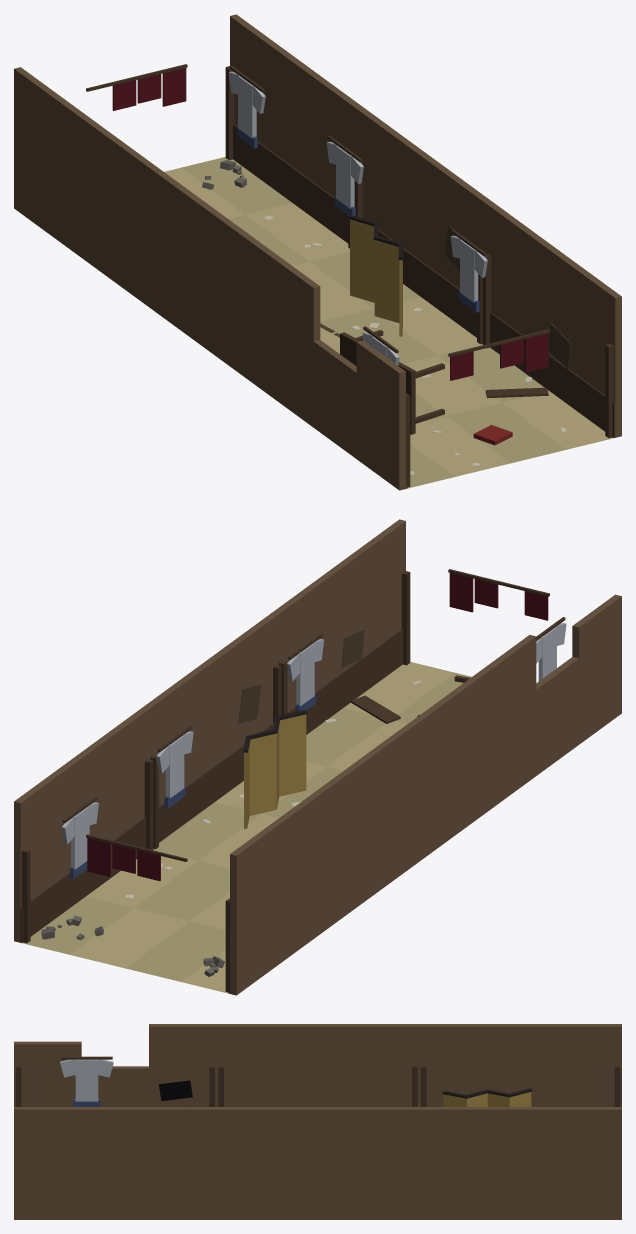
The picture shows the model from 3 angles, top to bottom: view 1: azimuth 30°, elevation 25°; view 2: azimuth 150°, elevation 25°; view 3: azimuth 270°, elevation 25°; orthographic projection. The views are drawn at different scales.
Visible parts, largest first — view 1: -_C, -_C_Deco; view 2: -_C, -_C_Deco; view 3: -_C, -_C_Deco.
Boxes of the visible parts, <box> form: -_C: <box>14,14,621,490</box>; -_C_Deco: <box>86,64,615,488</box>; -_C: <box>14,519,621,995</box>; -_C_Deco: <box>20,569,566,993</box>; -_C: <box>14,1024,621,1219</box>; -_C_Deco: <box>15,1056,620,1106</box>.
Size of the model in its own units: 2 by 0.6667 by 0.4023.
